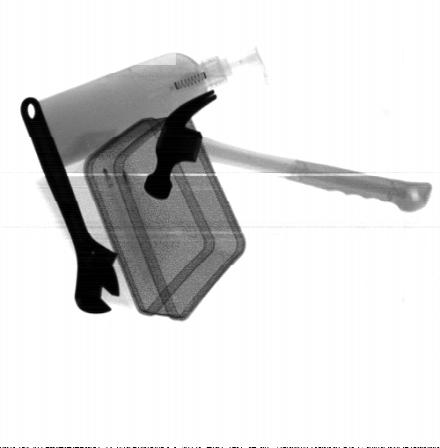Hammer: (144, 88, 433, 213)
Wrench: (20, 96, 120, 313)
